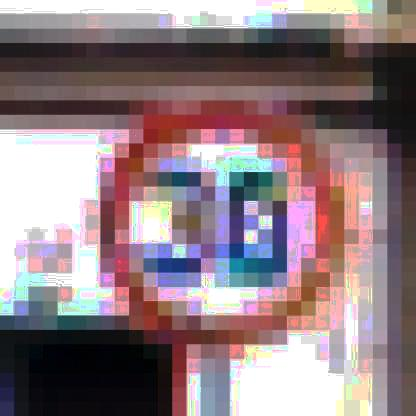Speed Limit -30-: (97, 100, 346, 346)
